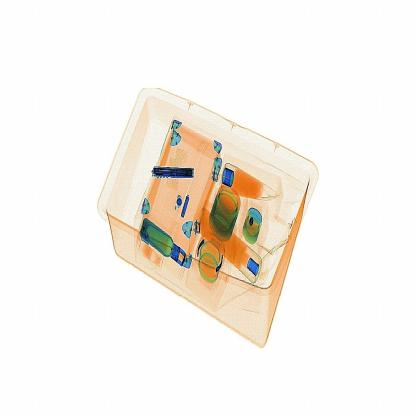scissors: (146, 155, 196, 189)
